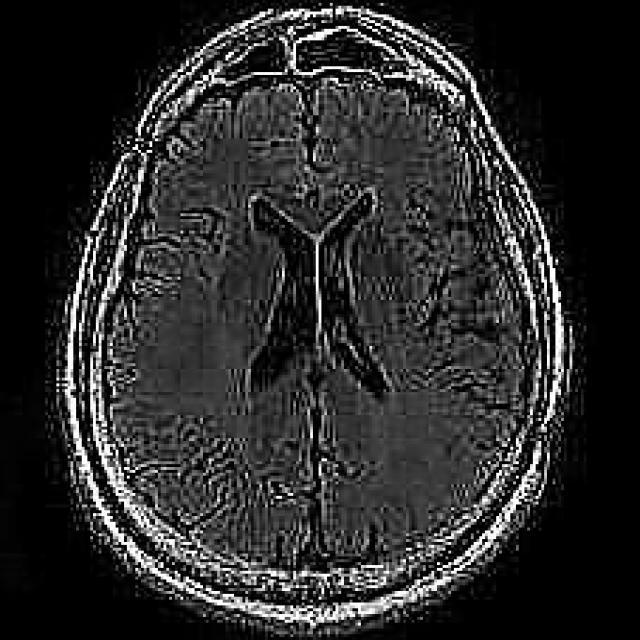notumor: (65, 6, 567, 628)
